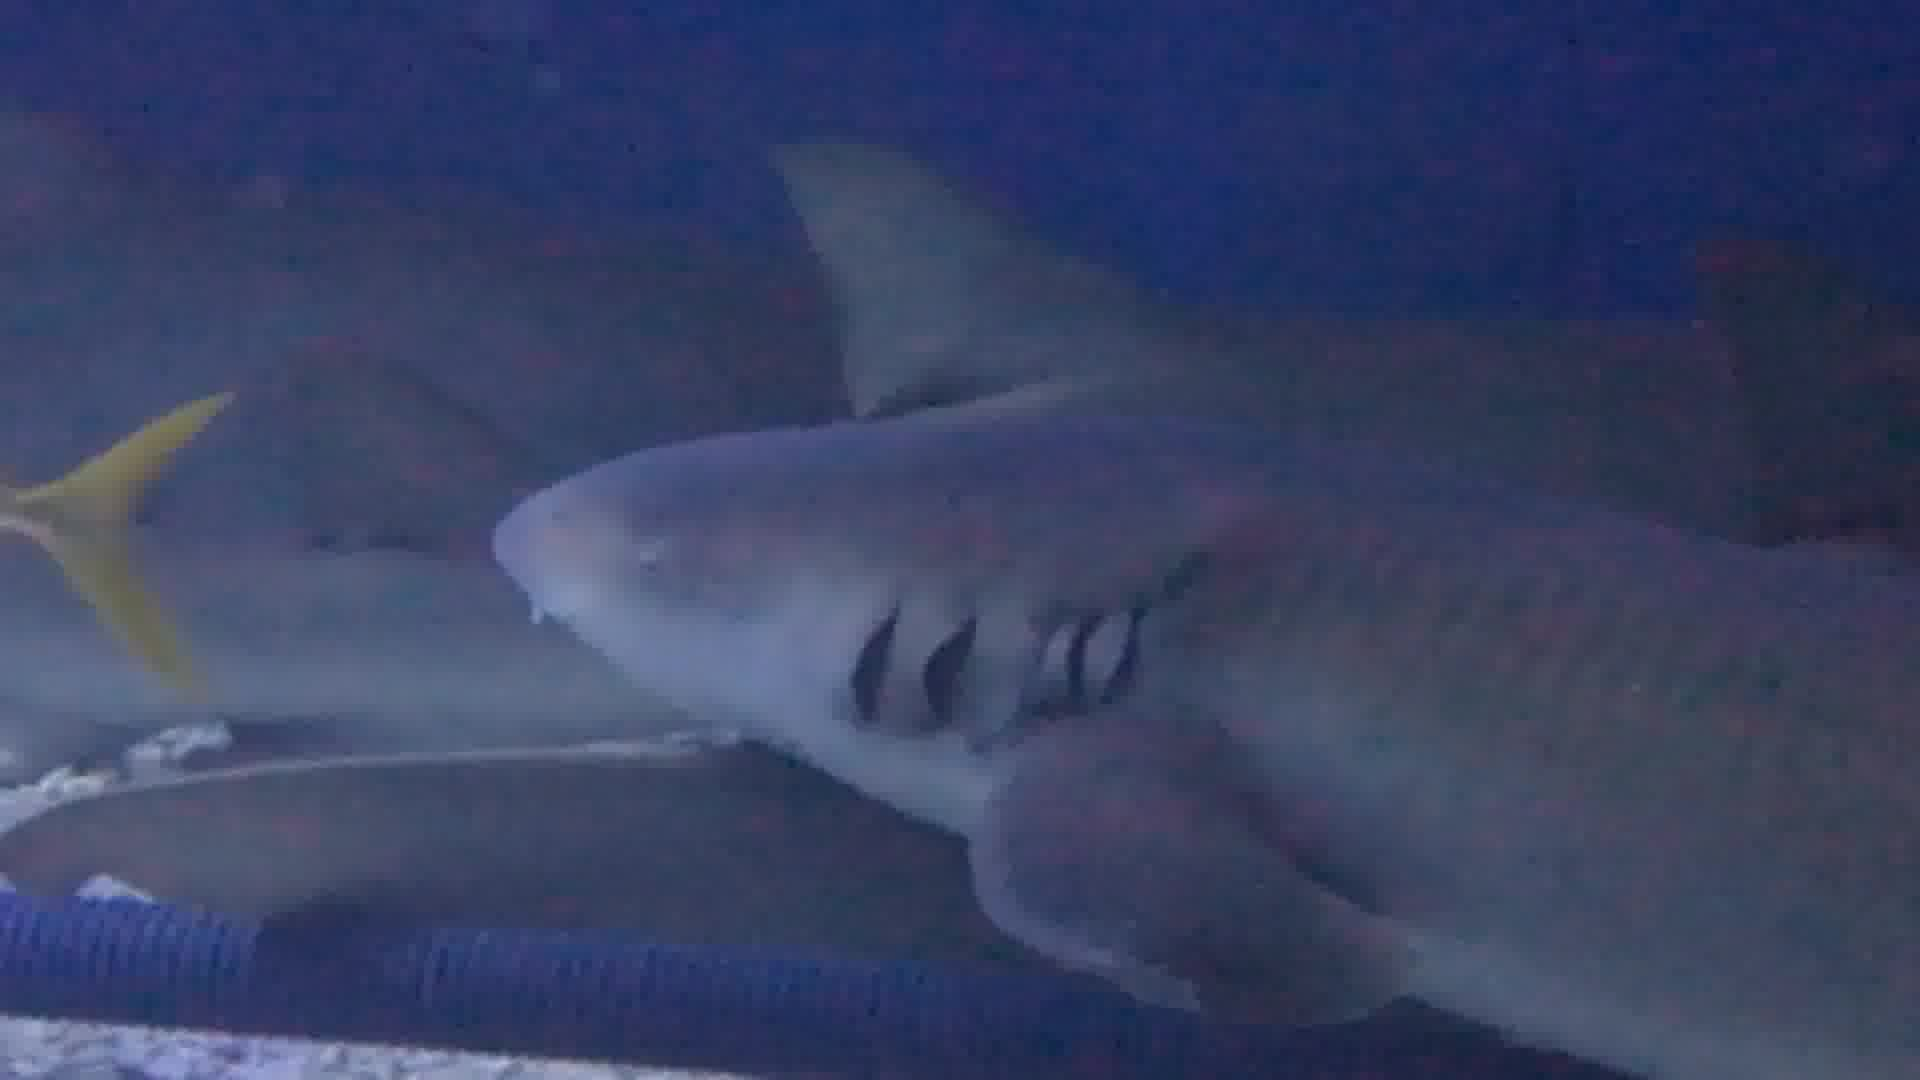Nebrius ferrugineus: (541, 353, 1919, 1077)
